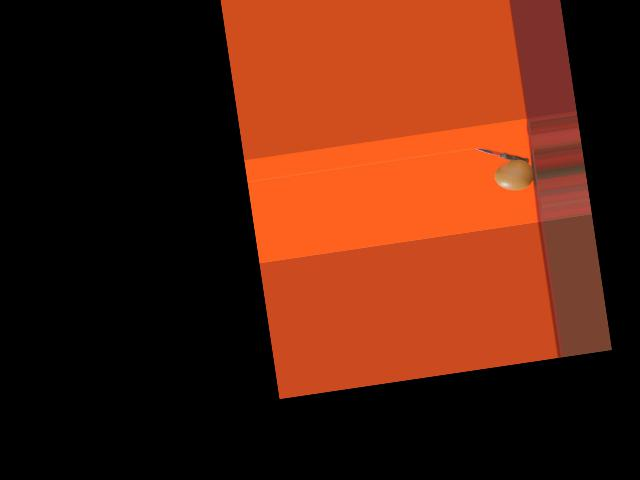egg: (493, 157, 535, 192)
